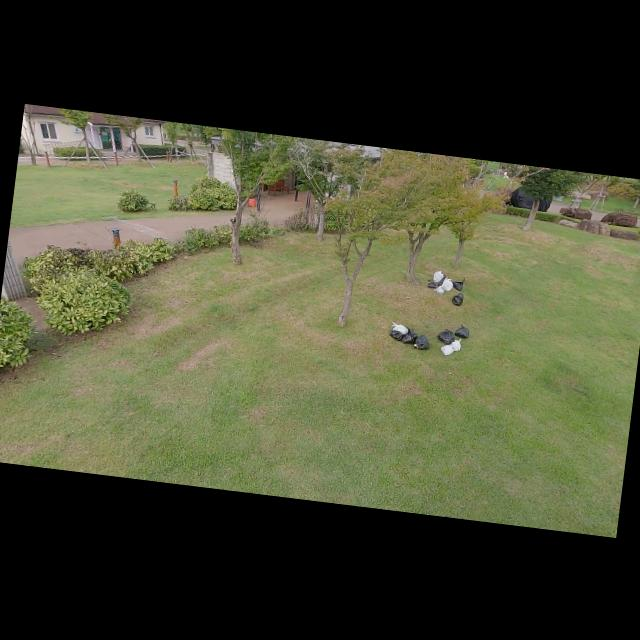trash: (436, 326, 456, 344), (400, 326, 420, 344), (388, 320, 409, 335), (414, 333, 431, 350), (450, 274, 466, 291), (454, 322, 471, 338), (438, 342, 457, 356), (387, 328, 405, 341), (440, 276, 454, 292), (451, 290, 465, 304), (432, 268, 445, 282), (450, 337, 462, 351), (433, 282, 445, 294), (426, 278, 439, 288), (438, 274, 448, 286)
